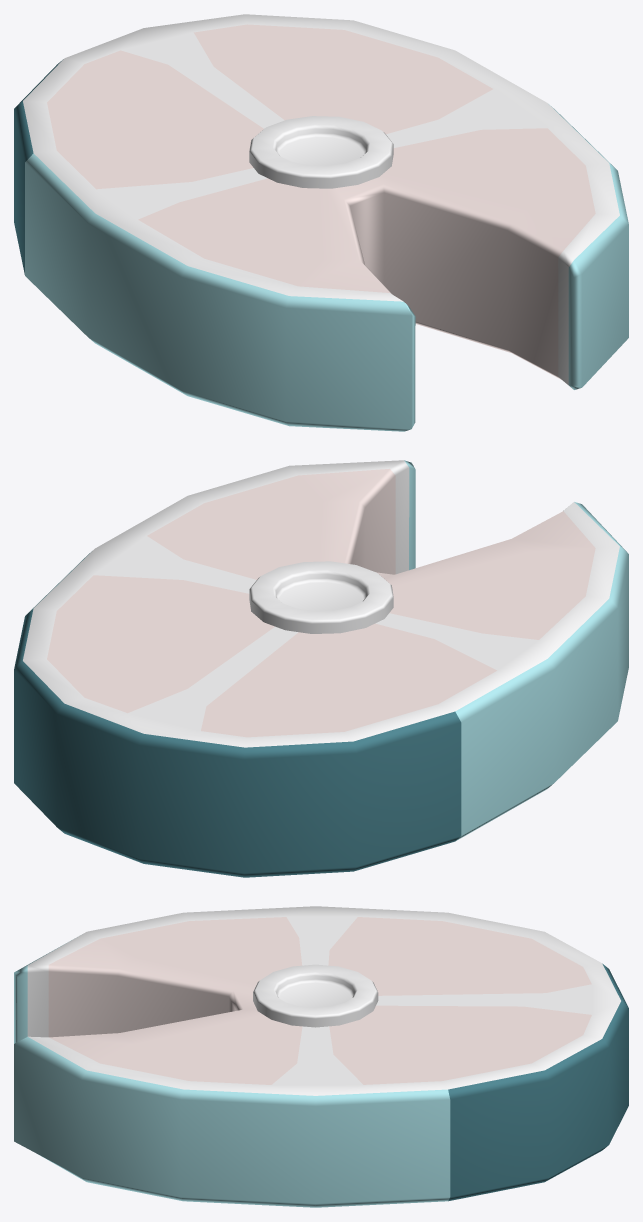
The model's file is SeaBass_1_Steak.fbx.
The picture shows the model from 3 angles, top to bottom: view 1: azimuth 30°, elevation 25°; view 2: azimuth 150°, elevation 25°; view 3: azimuth 270°, elevation 25°; orthographic projection. The views are drawn at different scales.
Visible parts, largest first — view 1: SeaBass_1_Steak; view 2: SeaBass_1_Steak; view 3: SeaBass_1_Steak.
Boxes of the visible parts, left/top/right/bottom form: SeaBass_1_Steak: left=14, top=14, right=628, bottom=431; SeaBass_1_Steak: left=14, top=460, right=628, bottom=877; SeaBass_1_Steak: left=14, top=906, right=628, bottom=1207.
Bounding box in the file's own units: 20.49 × 6.55 × 27.17.
